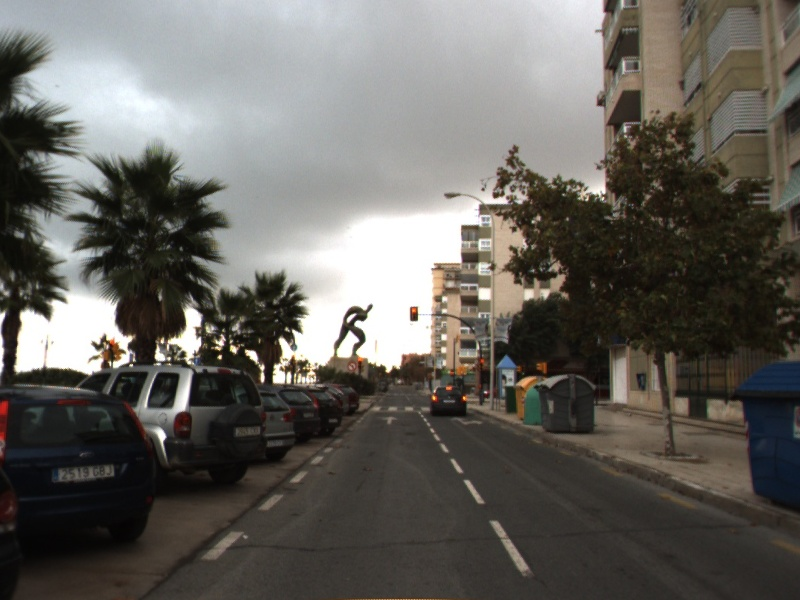STRAIGHT: (380, 414, 400, 426)
STRAIGHT_RIGHT: (448, 415, 485, 427)
